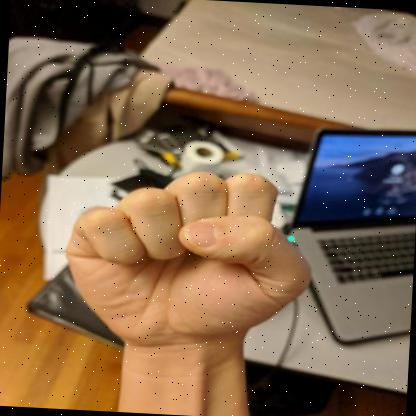S: (64, 171, 311, 357)
